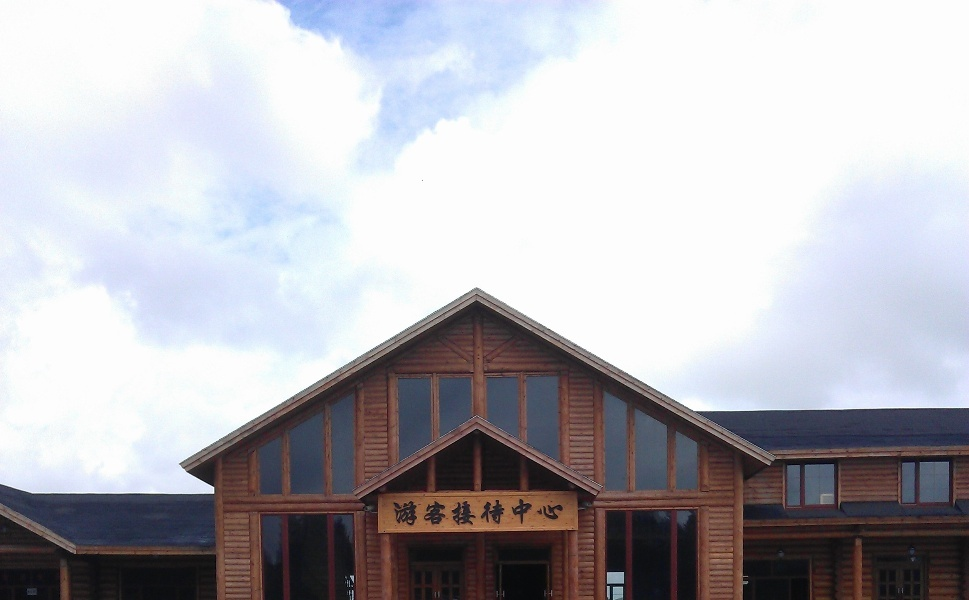text: (401, 498, 416, 527), (417, 498, 432, 527), (433, 498, 448, 527), (449, 498, 464, 527), (465, 498, 480, 527), (481, 498, 496, 527), (497, 498, 512, 527), (513, 498, 528, 527), (529, 498, 544, 527), (545, 498, 560, 527), (393, 498, 400, 527), (561, 498, 565, 527)
